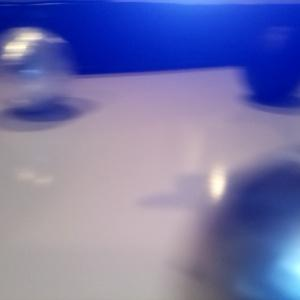alive_ball: (193, 147, 300, 300), (1, 27, 74, 113)
dead_ball: (244, 24, 300, 105)
